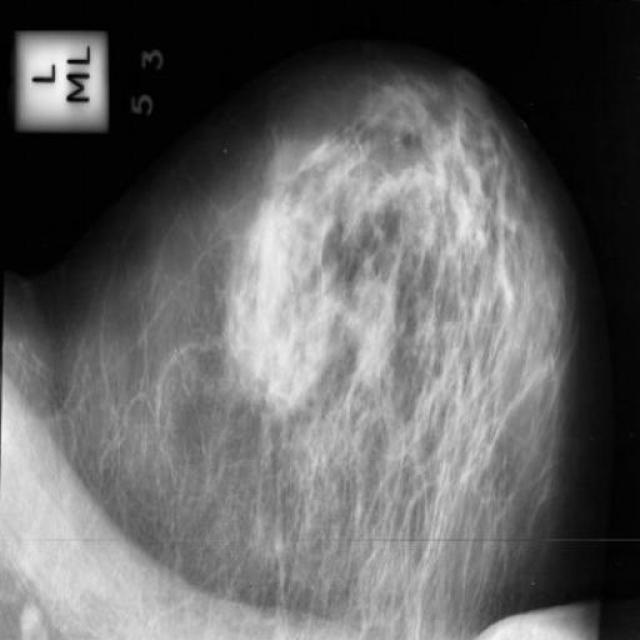cancer: (230, 270, 292, 360)
